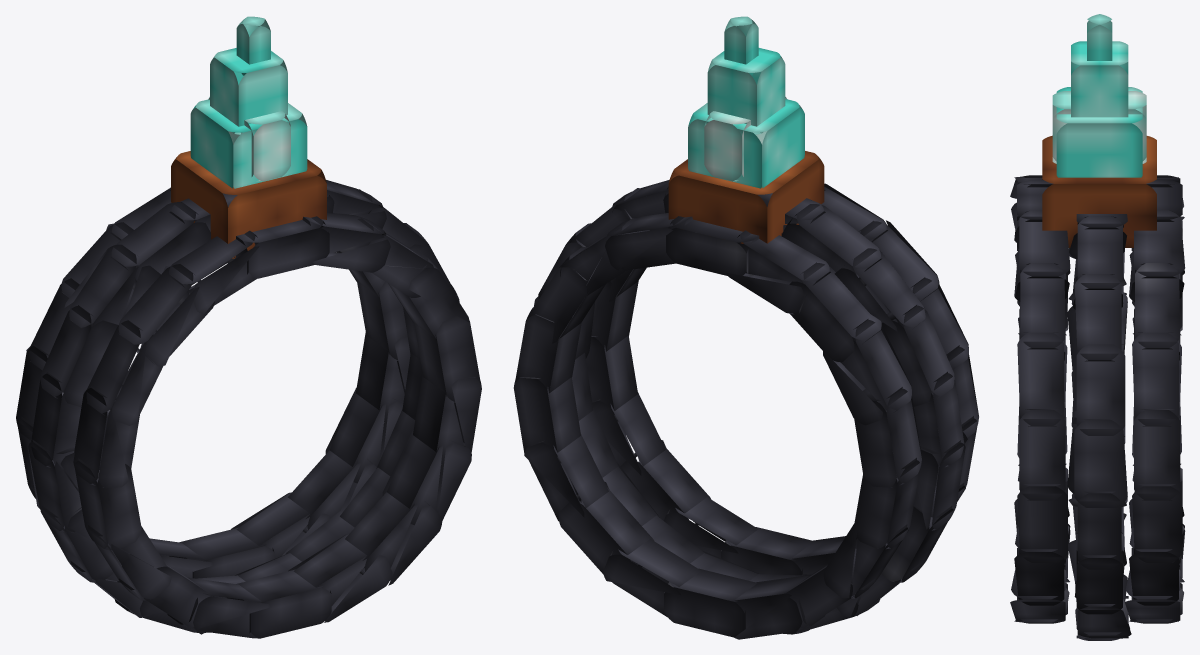
File: ember_coil.obj
3 views of the same model, side by side, from view 1: azimuth 30°, elevation 25°; view 2: azimuth 150°, elevation 25°; view 3: azimuth 270°, elevation 25° (orthographic).
Visible parts, largest first — view 1: lit, fire; view 2: lit, fire; view 3: lit, fire.
Boxes of the visible parts, x1,y1,x2,y2 form: lit: [16, 151, 481, 638]; fire: [190, 16, 307, 188]; lit: [513, 151, 978, 639]; fire: [688, 16, 804, 188]; lit: [1010, 135, 1185, 640]; fire: [1052, 14, 1146, 177].
Size of the model in its own units: 0.6861 by 0.9412 by 0.2506.
